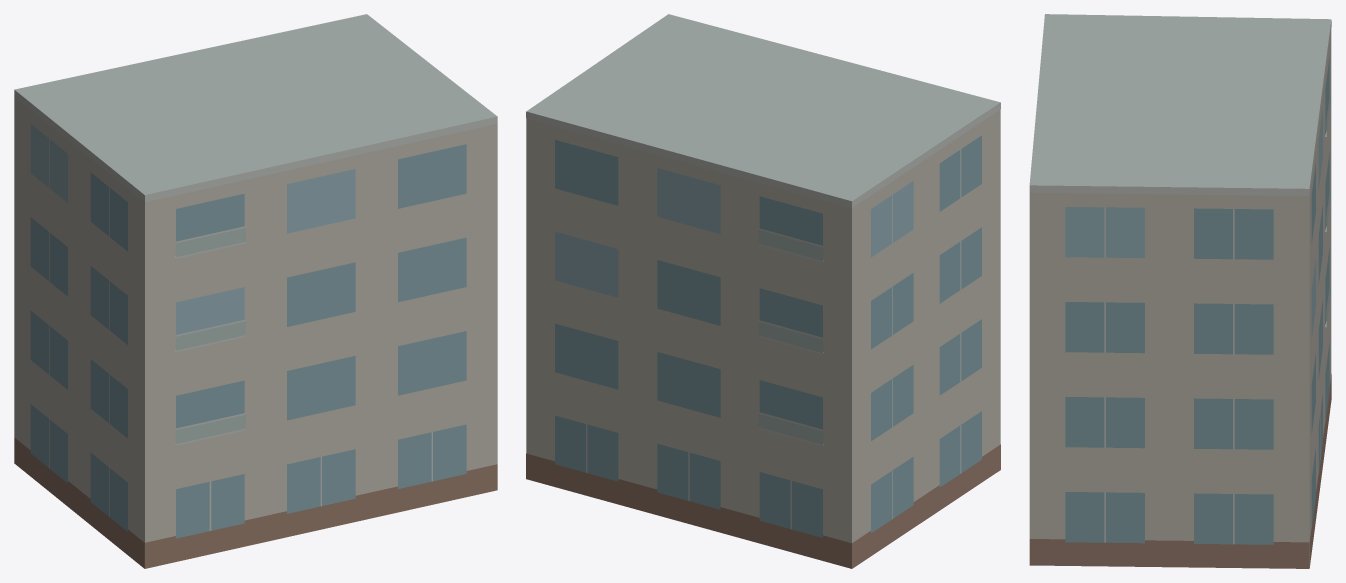
File: survey-upis-32940657.glb
3 renders of one model, left to right at view 1: azimuth 30°, elevation 25°; view 2: azimuth 150°, elevation 25°; view 3: azimuth 270°, elevation 25°, orthographic. The views are drawn at different scales.
Parts seen in each view (by area): view 1: survey-upis-32940657.tmp; view 2: survey-upis-32940657.tmp; view 3: survey-upis-32940657.tmp.
Part boxes in pixels (box(x1,y1,x2,y2)): survey-upis-32940657.tmp: box(14, 14, 497, 568); survey-upis-32940657.tmp: box(526, 14, 1000, 568); survey-upis-32940657.tmp: box(1029, 14, 1331, 568).
Bounding box in the file's own units: 12.64 × 12.8 × 9.23.
